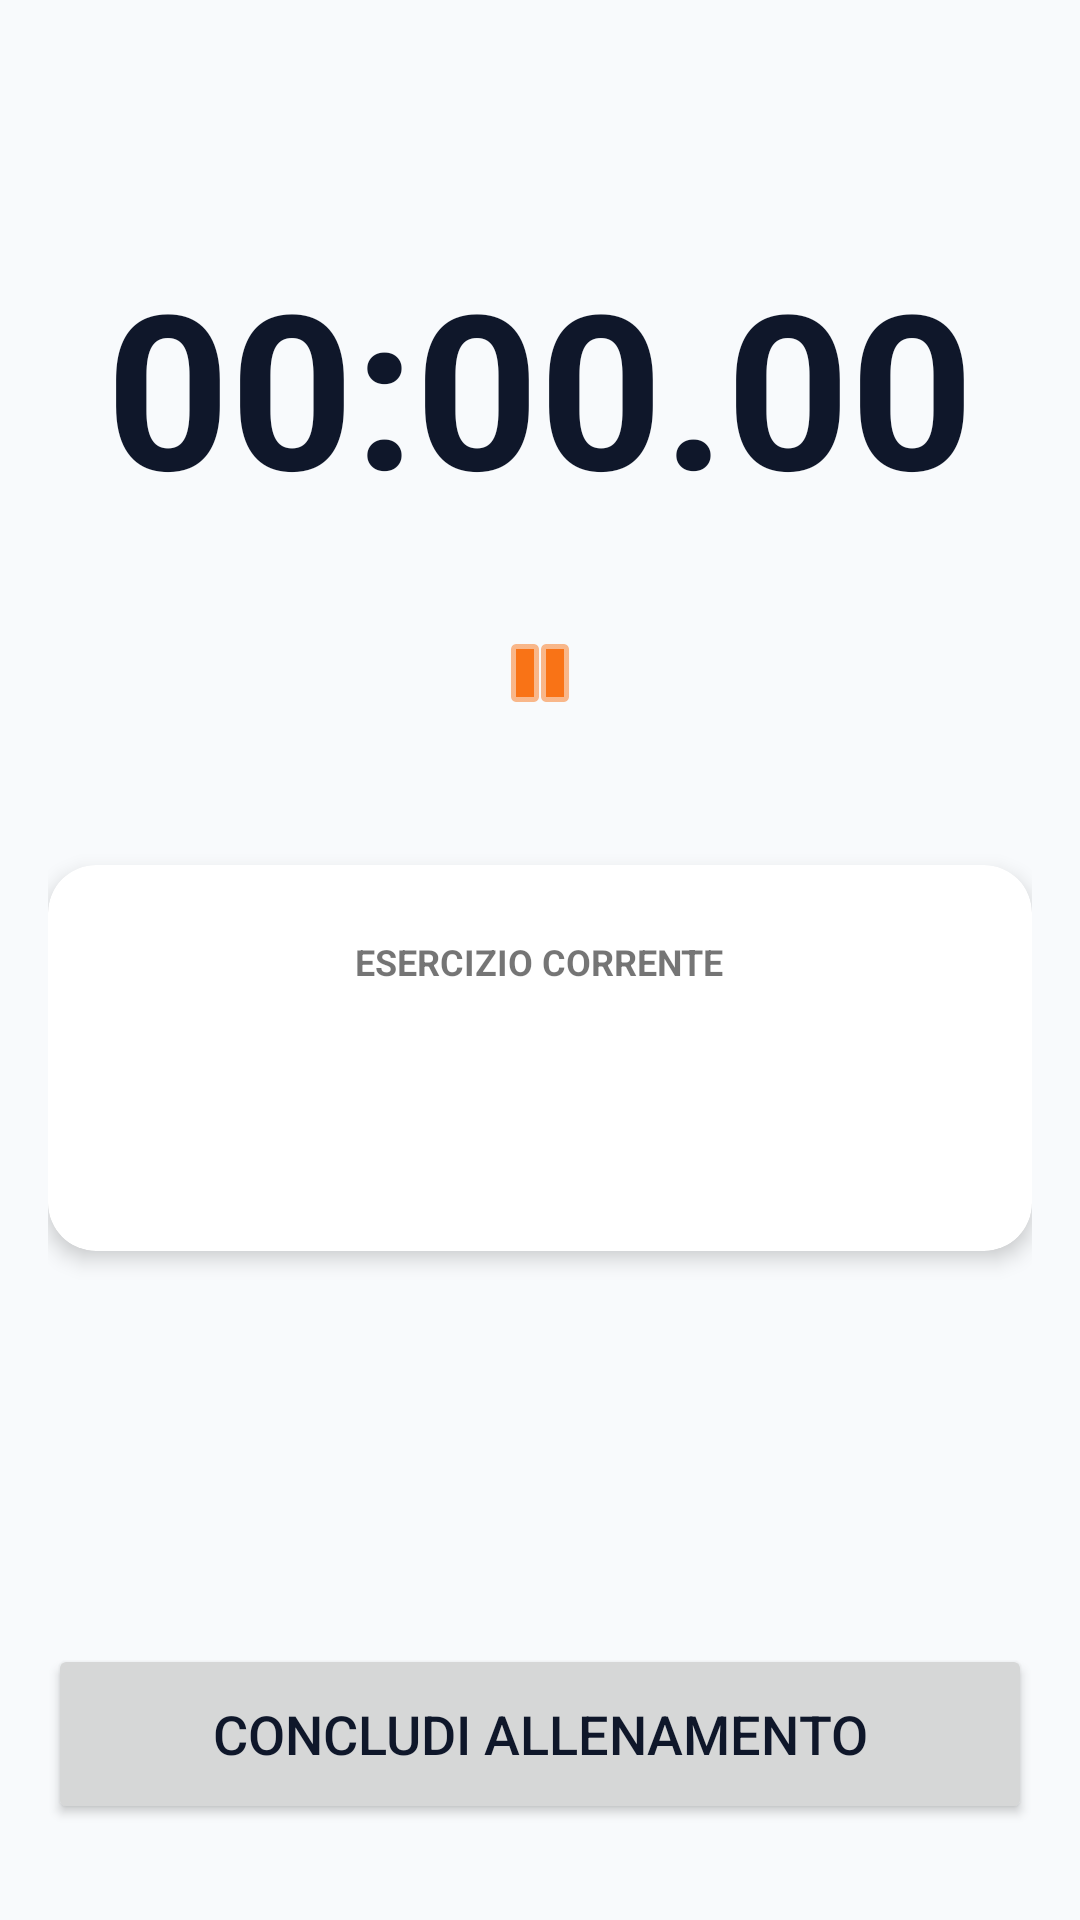

Named icons in this screenshot (1080×1920) and their bounding boxes, rect(x1, y1, x2, y2):
pause: rect(511, 644, 569, 702)
